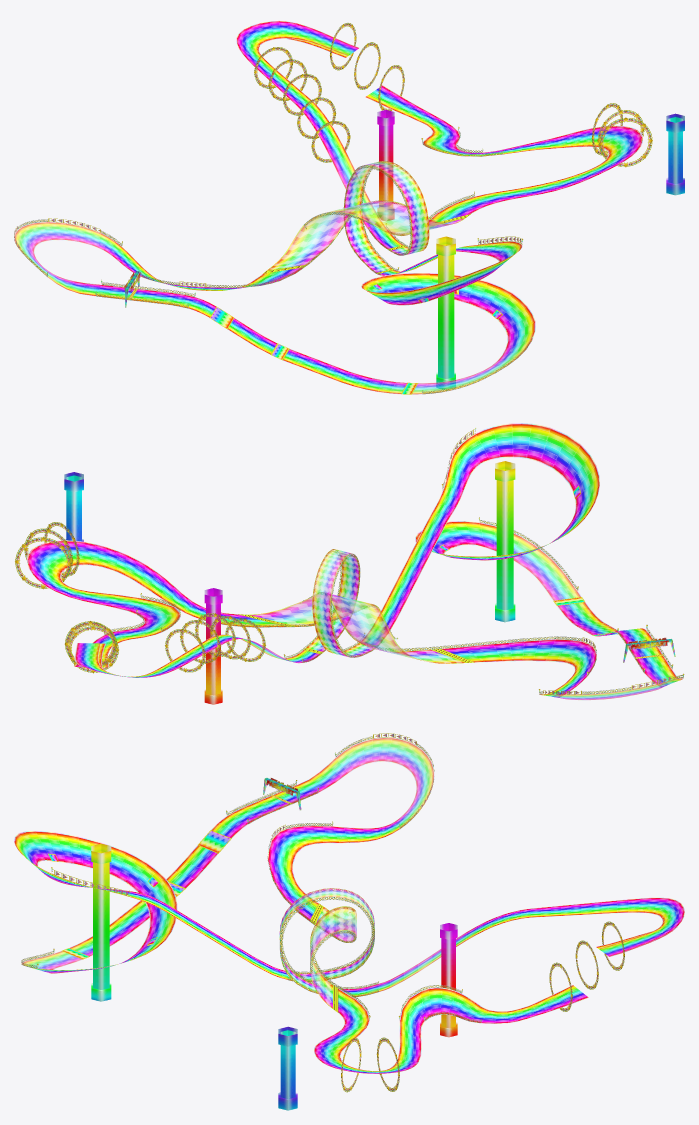
The model's file is rainbow_course.glb.
The picture shows the model from 3 angles, top to bottom: view 1: azimuth 30°, elevation 25°; view 2: azimuth 150°, elevation 25°; view 3: azimuth 270°, elevation 25°; orthographic projection. The views are drawn at different scales.
Visible parts, largest first — view 1: rainbow_course; view 2: rainbow_course; view 3: rainbow_course.
Part boxes in pixels (bbox=[...]): rainbow_course: bbox=[14, 20, 684, 394]; rainbow_course: bbox=[15, 423, 684, 704]; rainbow_course: bbox=[14, 733, 684, 1110].
Size of the model in its own units: 313 by 73.22 by 285.
Materials: 23 (23 with a texture image).
